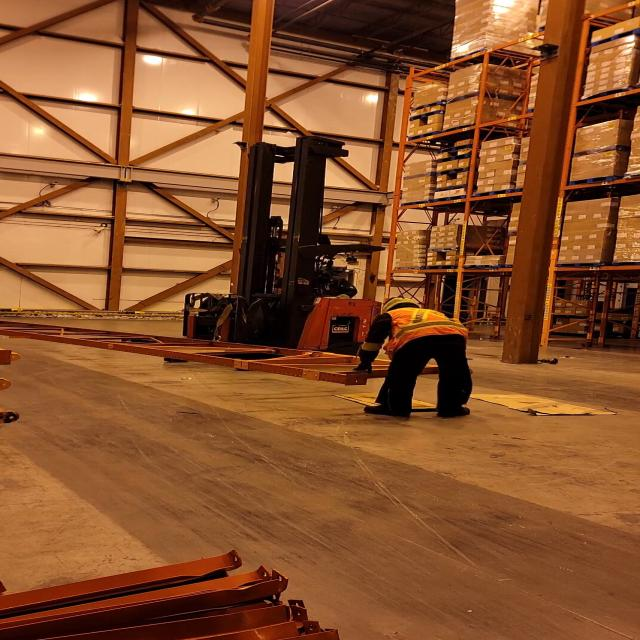forklift: (162, 144, 384, 380)
human: (352, 292, 480, 420), (280, 261, 364, 308)
objectofinterest: (0, 320, 460, 386), (460, 391, 618, 418), (332, 389, 458, 415)
